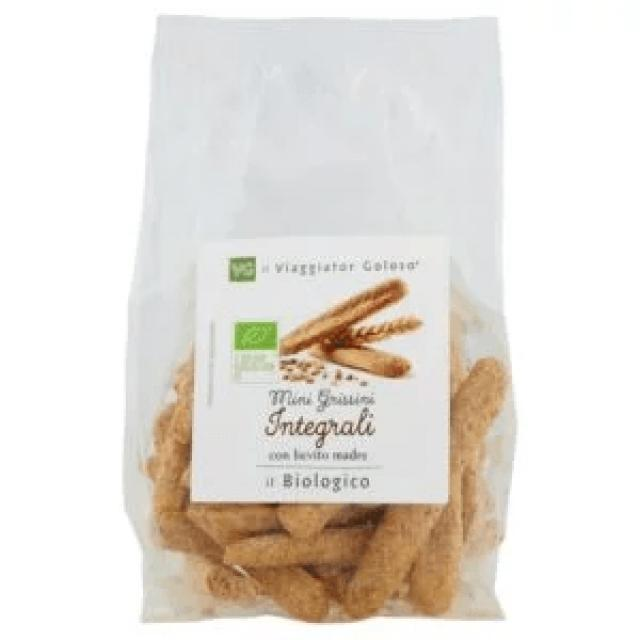bread: (122, 15, 518, 617)
